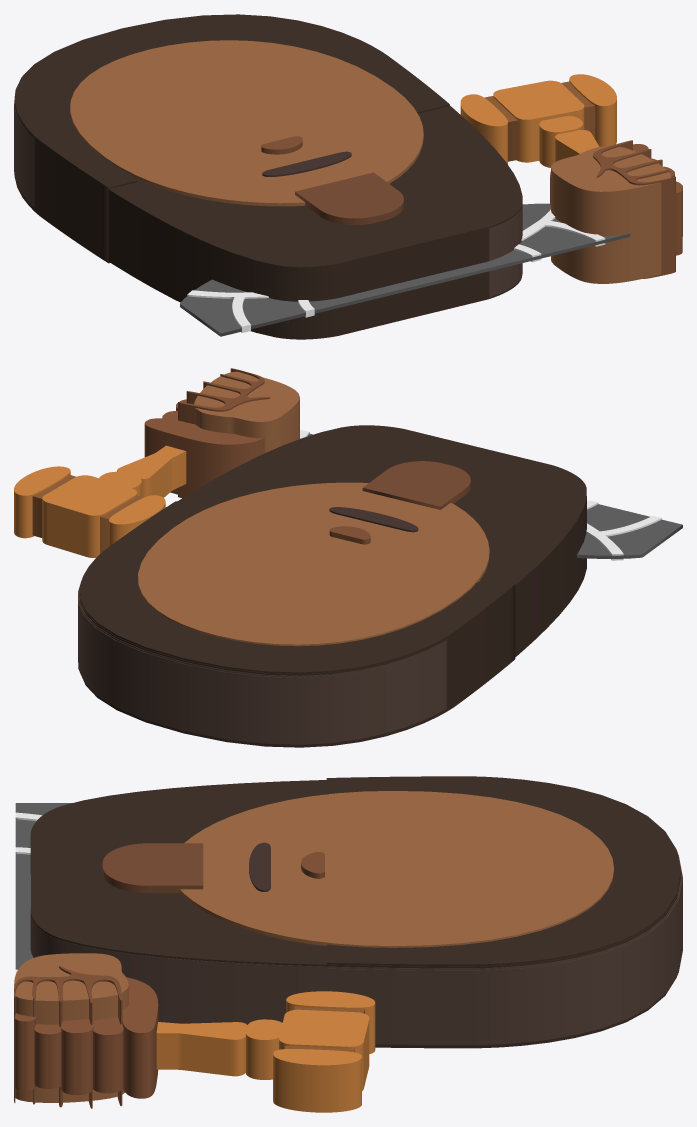
The model's file is emoji_u1f469_1f3fe_200d_2696.glb.
The picture shows the model from 3 angles, top to bottom: view 1: azimuth 30°, elevation 25°; view 2: azimuth 150°, elevation 25°; view 3: azimuth 270°, elevation 25°; orthographic projection. The views are drawn at different scales.
Parts seen in each view (by area): view 1: emoji_u1f469_1f3fe_200d_2696; view 2: emoji_u1f469_1f3fe_200d_2696; view 3: emoji_u1f469_1f3fe_200d_2696.
Part boxes in pixels (box(x1,y1,x2,y2)): emoji_u1f469_1f3fe_200d_2696: box(14, 14, 682, 339); emoji_u1f469_1f3fe_200d_2696: box(14, 368, 682, 747); emoji_u1f469_1f3fe_200d_2696: box(14, 776, 682, 1112).
Size of the model in its own units: 0.0334 by 0.0058 by 0.0333.
